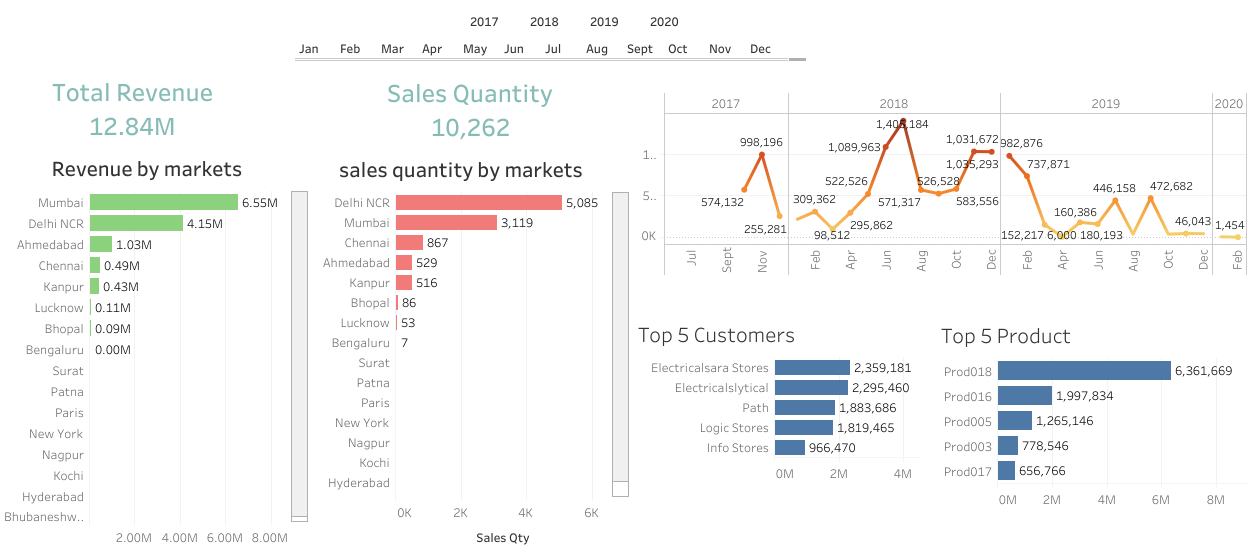

Layout of this report page (visuals, bound fields, positions):
{"tool":"tableau","page":{"name":"Dashboard - revenue","canvas":[1000,1000],"units":"permille","ordinal":0},"visuals":[{"type":"worksheet","title":"Year","mark":"Automatic","cols":["cy_date"],"box":[371.7,20.6,230.2,37.5]},{"type":"worksheet","title":"month","mark":"Automatic","cols":["cy_date"],"box":[234.9,67.5,467,41.3]},{"type":"worksheet","title":"revenue","mark":"Automatic","box":[34,133.2,176.4,133.2]},{"type":"worksheet","title":"Quantity","mark":"Automatic","box":[303.8,135.1,176.4,133.2]},{"type":"worksheet","title":"revenue by year","mark":"Automatic","rows":["Calculation_1405545360987852845"],"cols":["cy_date","cy_date"],"box":[509.4,167,485.9,328.3]},{"type":"worksheet","title":"Revenue by markets","mark":"Automatic","rows":["markets_name"],"cols":["Calculation_1405545360987852845"],"box":[2.8,266.4,242.5,735.5]},{"type":"worksheet","title":"sales quantity by markets","mark":"Automatic","rows":["markets_name"],"cols":["sales_qty"],"box":[248.1,268.3,253.8,726.1]},{"type":"worksheet","title":"Top 5 Customers","mark":"Automatic","rows":["custmer_name"],"cols":["Calculation_1405545360987852845"],"box":[505.7,564.7,228.3,422.1]},{"type":"worksheet","title":"Top 5 Product","mark":"Automatic","rows":["product_code (products.csv)"],"cols":["Calculation_1405545360987852845"],"box":[747.2,566.6,246.2,392.1]}]}

Visuals, with their boxes on the dashboard's canvas, which has no fixed pixel size, in thousandths of its width and height (x1, y1, x2, y2). These are canvas units, not pixel positions in the 1253x555 screenshot, which may show the page scaled, cropped or inside an application window:
"Year" worksheet: 372/21/602/58
"month" worksheet: 235/68/702/109
"revenue" worksheet: 34/133/210/266
"Quantity" worksheet: 304/135/480/268
"revenue by year" worksheet: 509/167/995/495
"Revenue by markets" worksheet: 3/266/245/1002
"sales quantity by markets" worksheet: 248/268/502/994
"Top 5 Customers" worksheet: 506/565/734/987
"Top 5 Product" worksheet: 747/567/993/959
